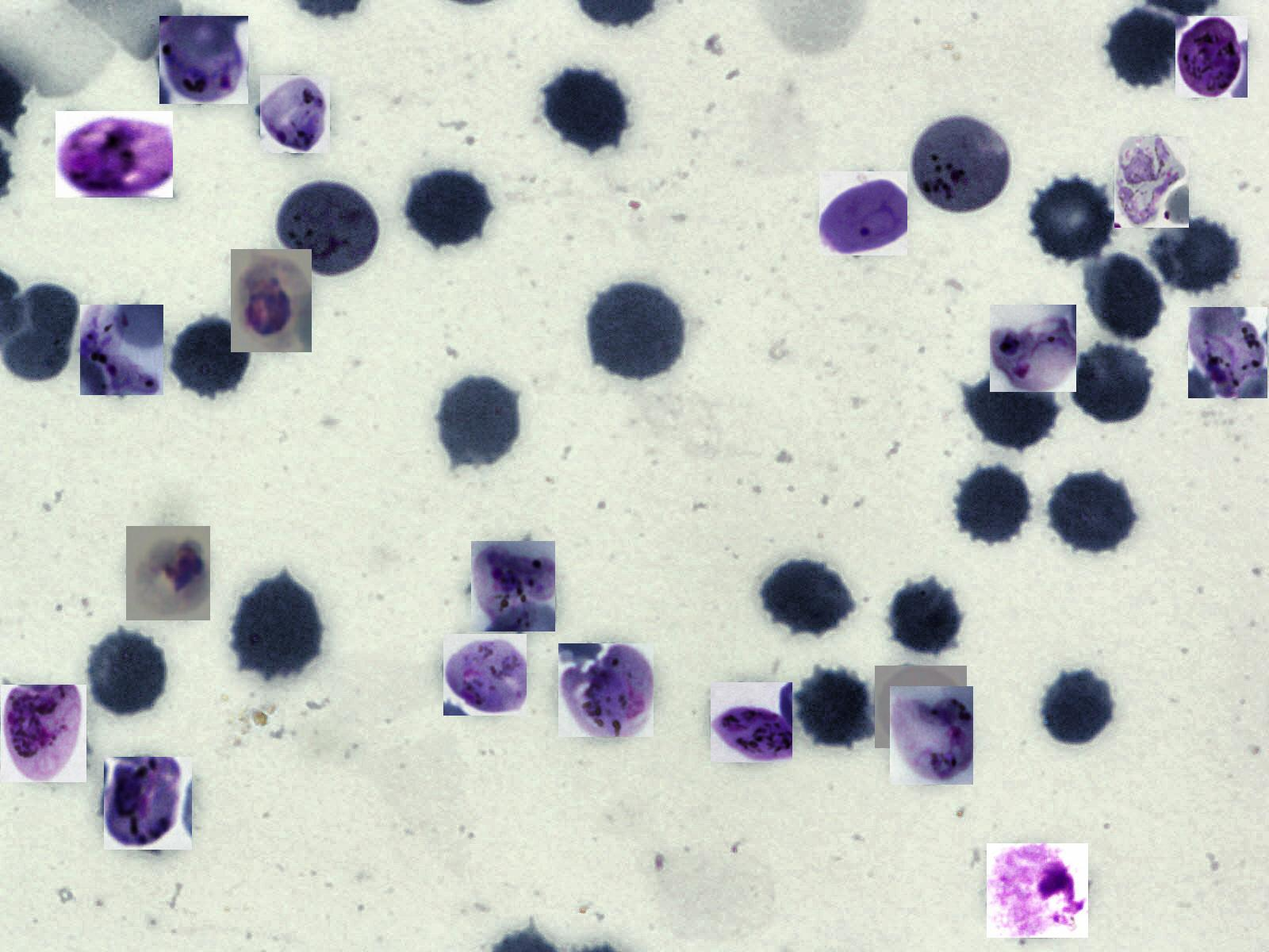Infected: (56, 111, 173, 198), (911, 115, 1010, 214), (276, 182, 377, 277), (987, 843, 1088, 938), (558, 643, 654, 737), (231, 249, 312, 352), (1, 685, 86, 782), (890, 686, 973, 785), (104, 757, 192, 850), (126, 526, 210, 620), (159, 16, 248, 104), (990, 305, 1076, 393), (471, 541, 555, 631), (875, 666, 967, 748), (80, 305, 163, 395), (819, 171, 907, 255), (1188, 307, 1267, 398), (1114, 136, 1189, 228), (443, 634, 527, 716), (711, 682, 792, 762), (1175, 16, 1248, 98), (260, 75, 330, 153)
Uninfected: (587, 278, 687, 382), (233, 574, 323, 680), (435, 372, 522, 470), (85, 626, 171, 720), (1, 279, 79, 381), (1028, 175, 1118, 263), (401, 167, 494, 250), (1046, 470, 1137, 553), (967, 371, 1059, 451), (543, 66, 627, 150), (1084, 254, 1165, 340), (761, 561, 851, 636), (1072, 342, 1154, 424), (168, 317, 251, 398), (1106, 6, 1187, 89), (1150, 219, 1240, 293), (955, 462, 1033, 546), (796, 666, 874, 748), (888, 578, 964, 658), (1044, 670, 1117, 747)
